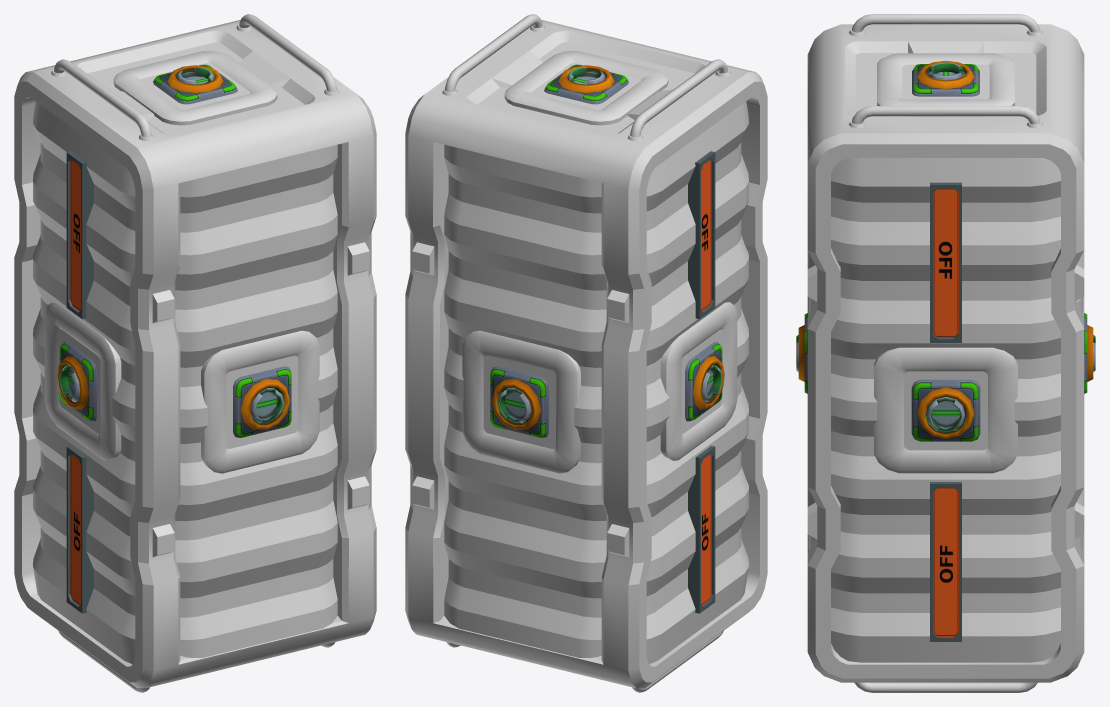
The model's file is fant_large_container.fbx.
The picture shows the model from 3 angles, left to right: view 1: azimuth 30°, elevation 25°; view 2: azimuth 150°, elevation 25°; view 3: azimuth 270°, elevation 25°; orthographic projection.
Visible parts, largest first — view 1: fant_large_container; view 2: fant_large_container; view 3: fant_large_container.
Boxes of the visible parts, left/top/right/bottom form: fant_large_container: left=14, top=14, right=376, bottom=692; fant_large_container: left=405, top=14, right=767, bottom=692; fant_large_container: left=796, top=14, right=1095, bottom=692.
Bounding box in the file's own units: 544 × 1176 × 544.
